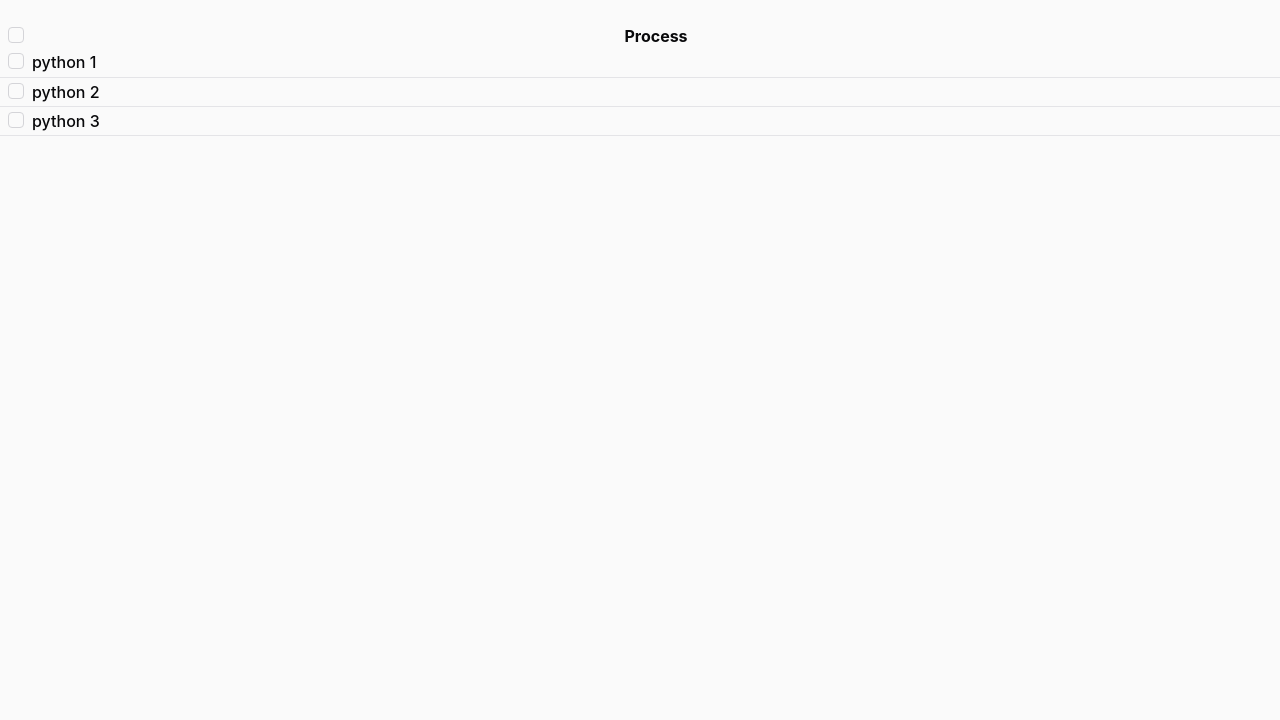
Test: shared process interaction › stops after an unknown transport result and does not retry
The image size is (1280, 720).
Click the checkbox named "Select all matching processes". click: point(16, 35)
box: [8,27,24,43]
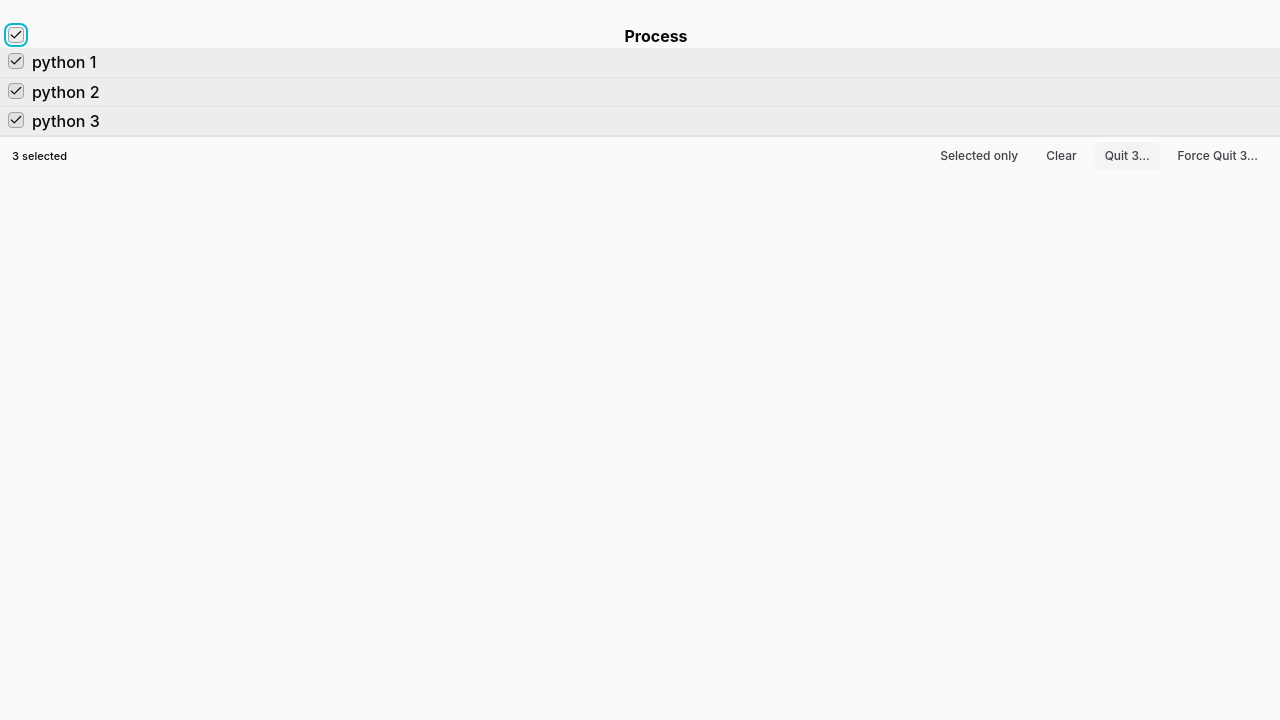
Click the button "Force Quit 3…". click: point(1218, 156)
box: [1168,142,1268,170]
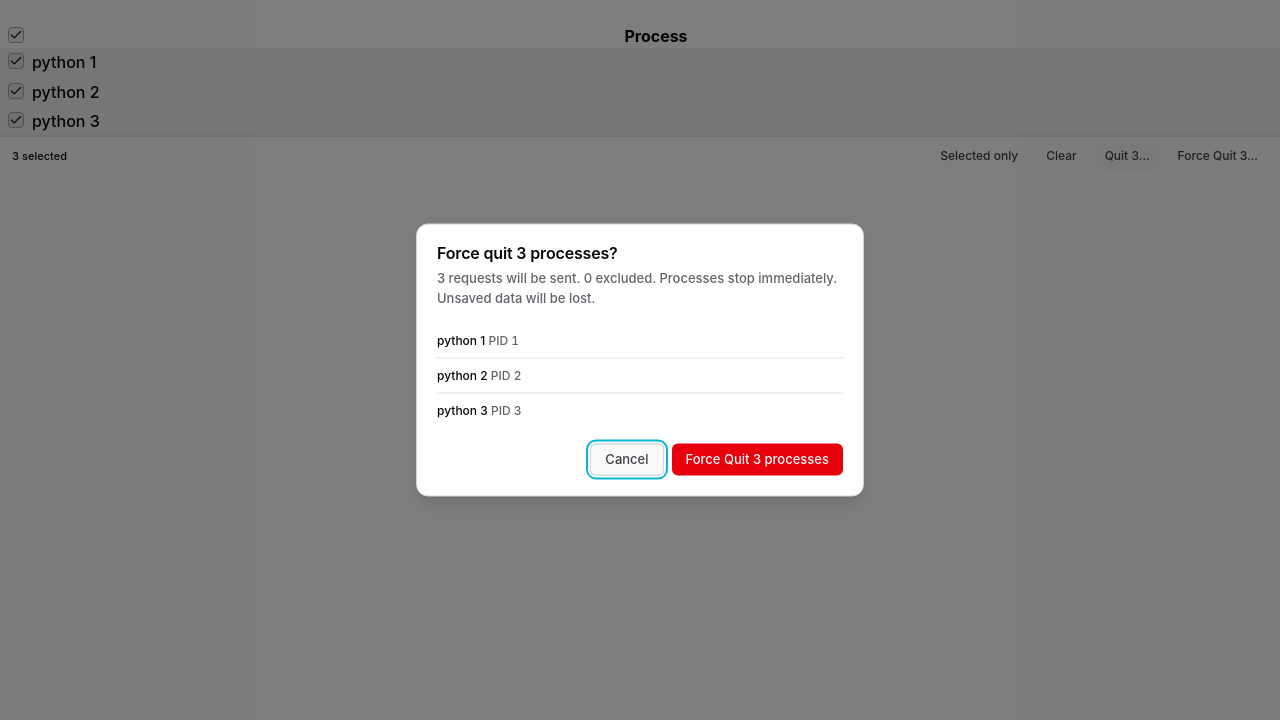
Click the button "Force Quit 3 processes". click: point(757, 460)
box: [672,444,843,476]
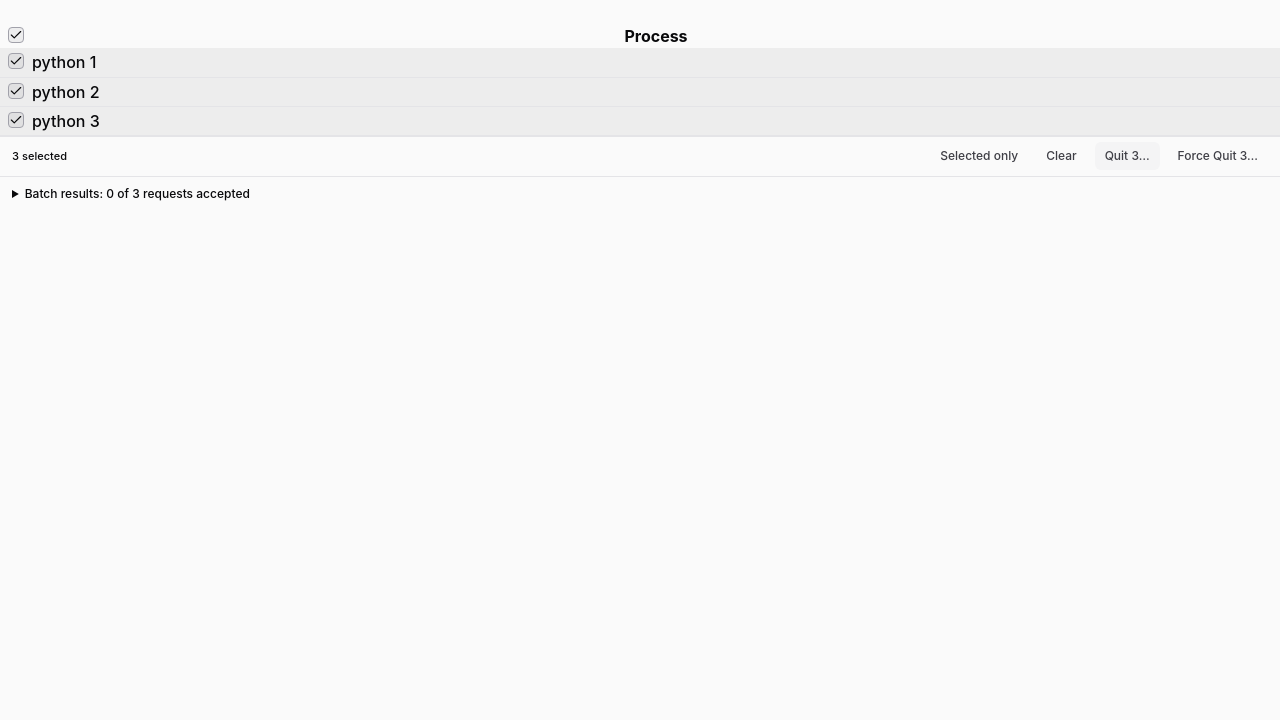
Click the heading "Batch results: 0 of 3 requests accepted". click: point(137, 193)
box: [25,186,250,200]
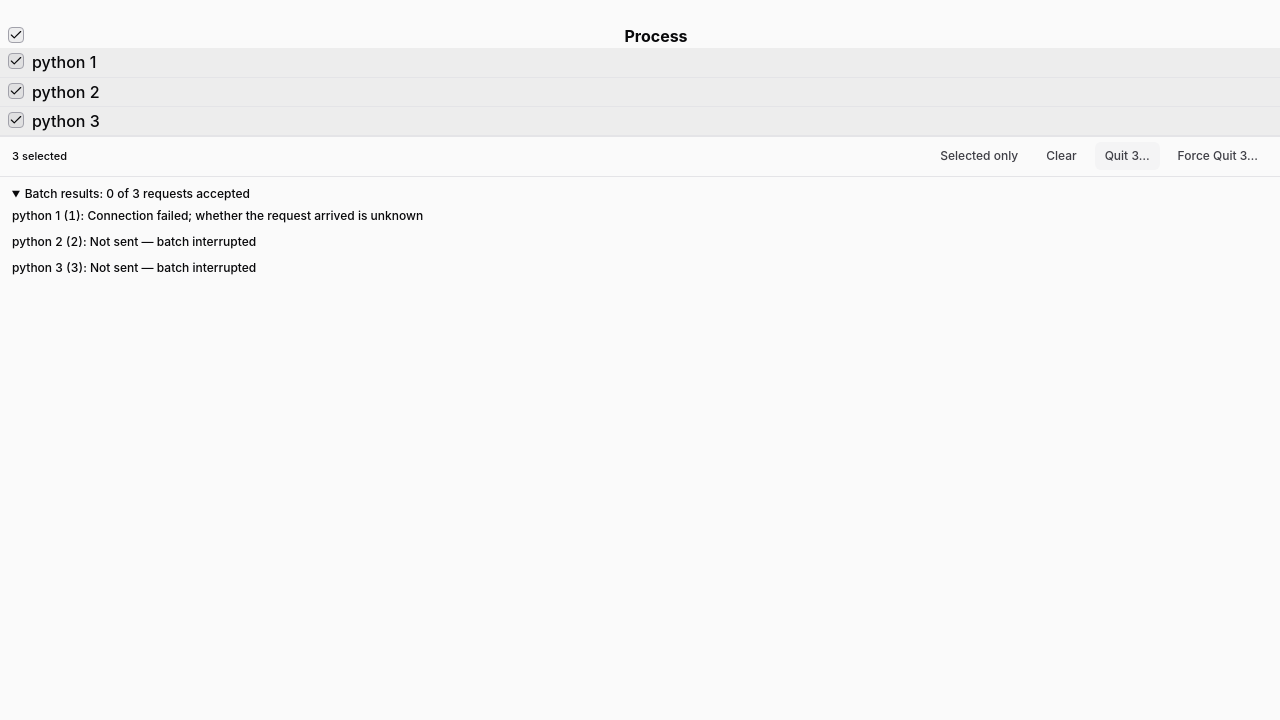
expect the list item "whether the request arrived is unknown" is shown: met, box [88,208,423,222]
expect the number of list items "python 2 (2): Not sent — batch interrupted" is 2: met, box [12,234,256,248]; [12,260,256,274]
